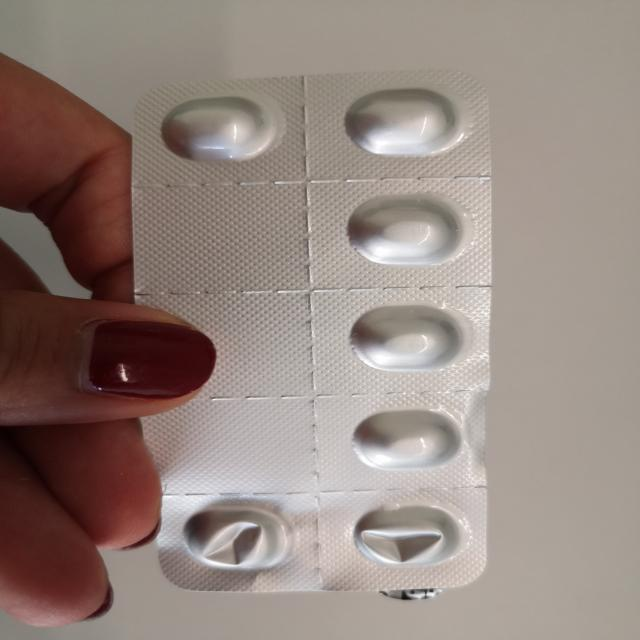Empty: (338, 502, 473, 579), (174, 495, 295, 578)
Pill: (329, 295, 471, 379), (333, 189, 473, 271), (338, 82, 468, 168), (148, 89, 288, 166), (333, 403, 469, 476)
